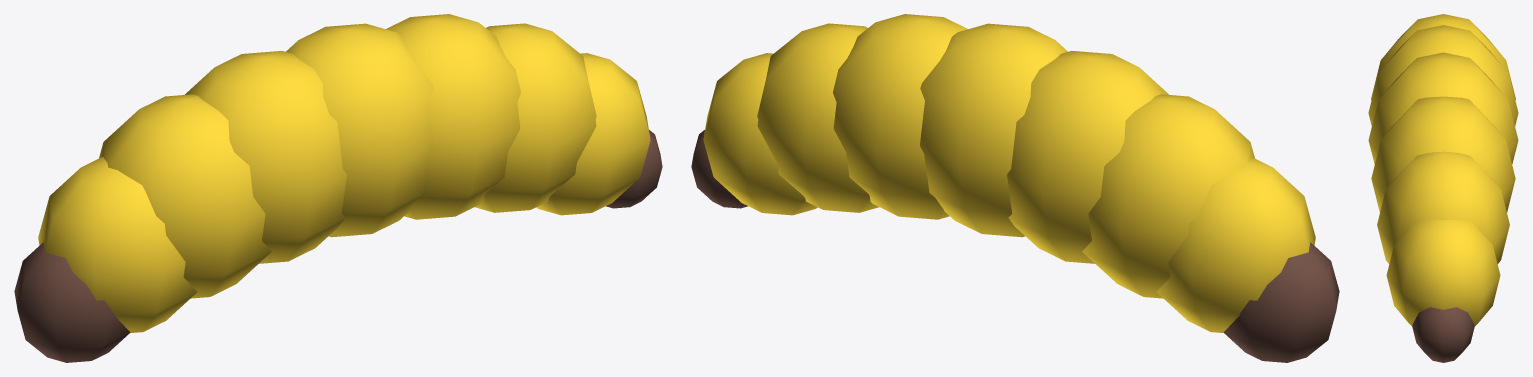
Rendered from banana.glb.
3 renders of one model, left to right at view 1: azimuth 30°, elevation 25°; view 2: azimuth 150°, elevation 25°; view 3: azimuth 270°, elevation 25°, orthographic. The views are drawn at different scales.
Visible parts, largest first — view 1: match/banana; view 2: match/banana; view 3: match/banana.
Boxes of the visible parts, left/top/right/bottom form: match/banana: left=14, top=14, right=662, bottom=362; match/banana: left=691, top=14, right=1339, bottom=362; match/banana: left=1368, top=14, right=1518, bottom=362.
Bounding box in the file's own units: 1 × 0.3891 × 0.2527.
